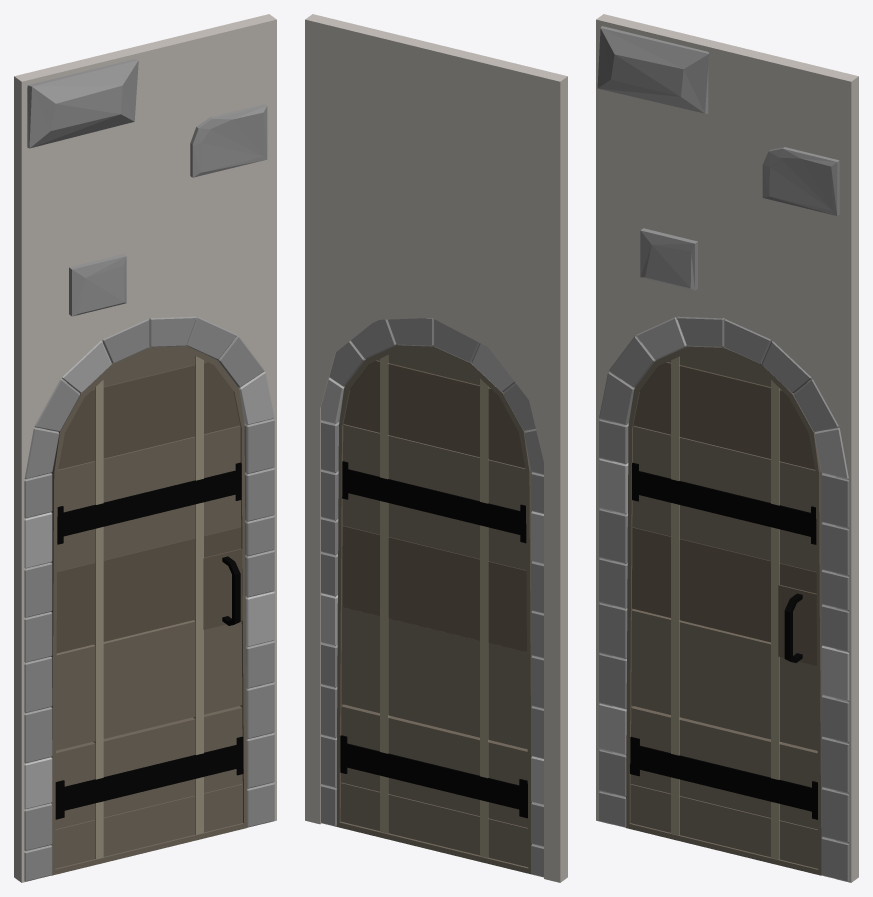
Rendered from _DOOR_01_1.fbx.
3 views of the same model, side by side, from view 1: azimuth 30°, elevation 25°; view 2: azimuth 150°, elevation 25°; view 3: azimuth 330°, elevation 25° (orthographic).
Visible parts, largest first — view 1: DOOR_01_1; view 2: DOOR_01_1; view 3: DOOR_01_1.
Part boxes in pixels (<box>): DOOR_01_1: <box>14,14,276,882</box>; DOOR_01_1: <box>305,14,567,882</box>; DOOR_01_1: <box>596,14,858,882</box>.
Size of the model in its own units: 100 by 300 by 13.58.
